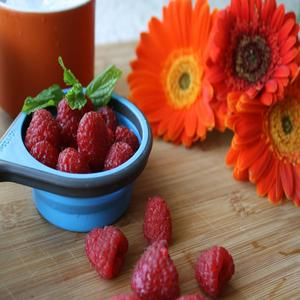raspb: (77, 201, 251, 300)
